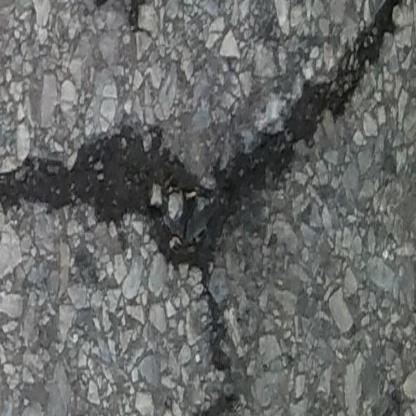Cracks: (0, 0, 416, 416), (71, 0, 154, 37)
